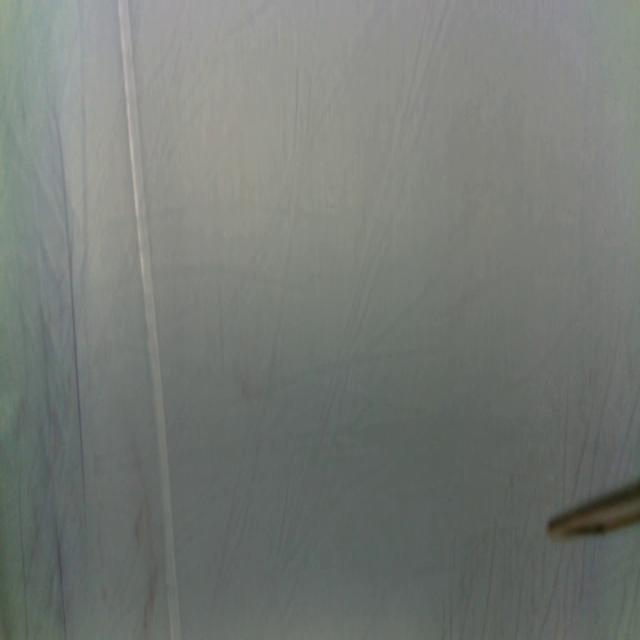crease: (118, 1, 182, 640), (58, 127, 89, 523), (19, 494, 28, 638), (57, 536, 67, 640)
